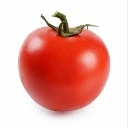tomato: (18, 25, 110, 111)
